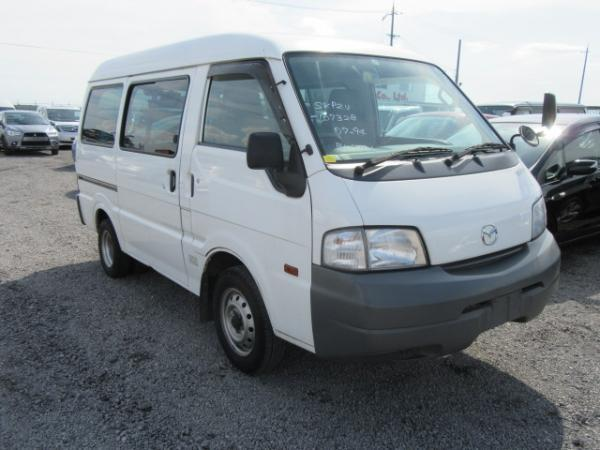Van: (73, 38, 560, 378)
